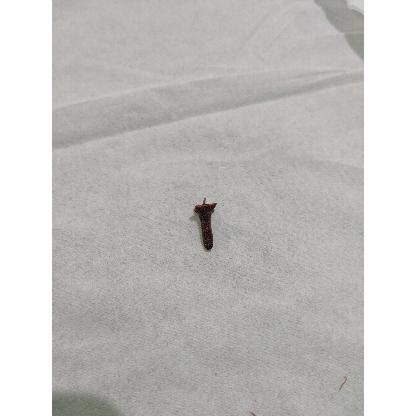buruk: (193, 199, 217, 252)
